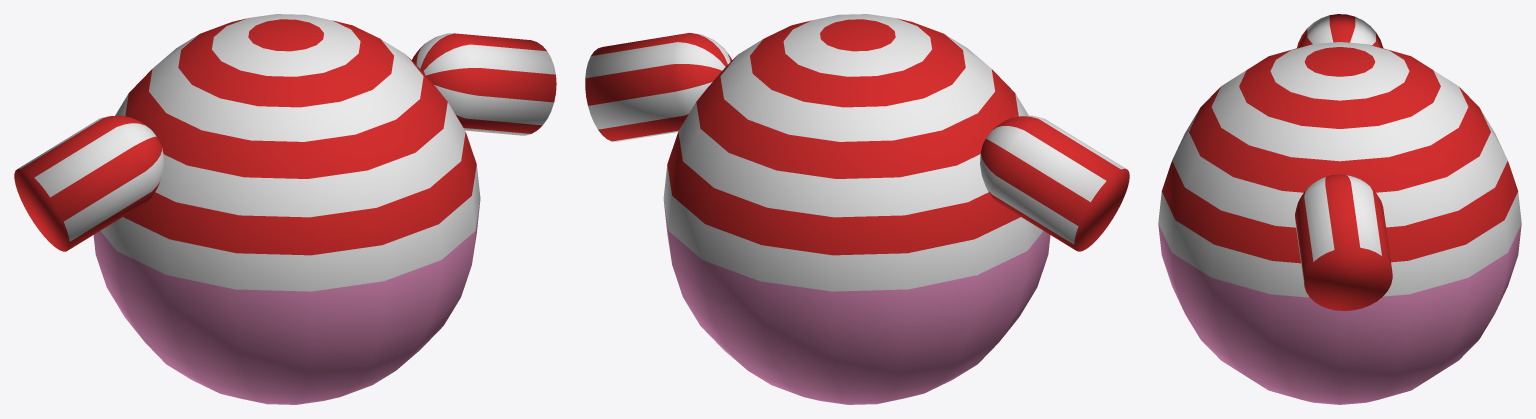
The model's file is target.dae.
The picture shows the model from 3 angles, left to right: view 1: azimuth 30°, elevation 25°; view 2: azimuth 150°, elevation 25°; view 3: azimuth 270°, elevation 25°; orthographic projection. The views are drawn at different scales.
Visible parts, largest first — view 1: Target.001; view 2: Target.001; view 3: Target.001.
Part boxes in pixels (left/top/right/bottom): Target.001: left=14, top=14, right=556, bottom=404; Target.001: left=585, top=14, right=1129, bottom=404; Target.001: left=1158, top=14, right=1521, bottom=404.
Bounding box in the file's own units: 3.04 × 2 × 2.
